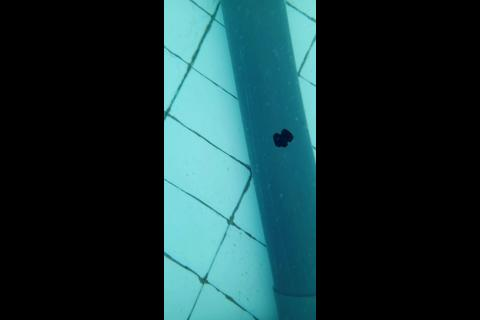kebocoran: (271, 127, 294, 149)
